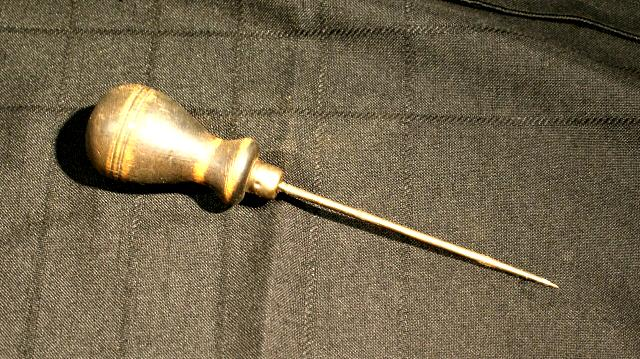ice pick: (85, 84, 560, 290)
